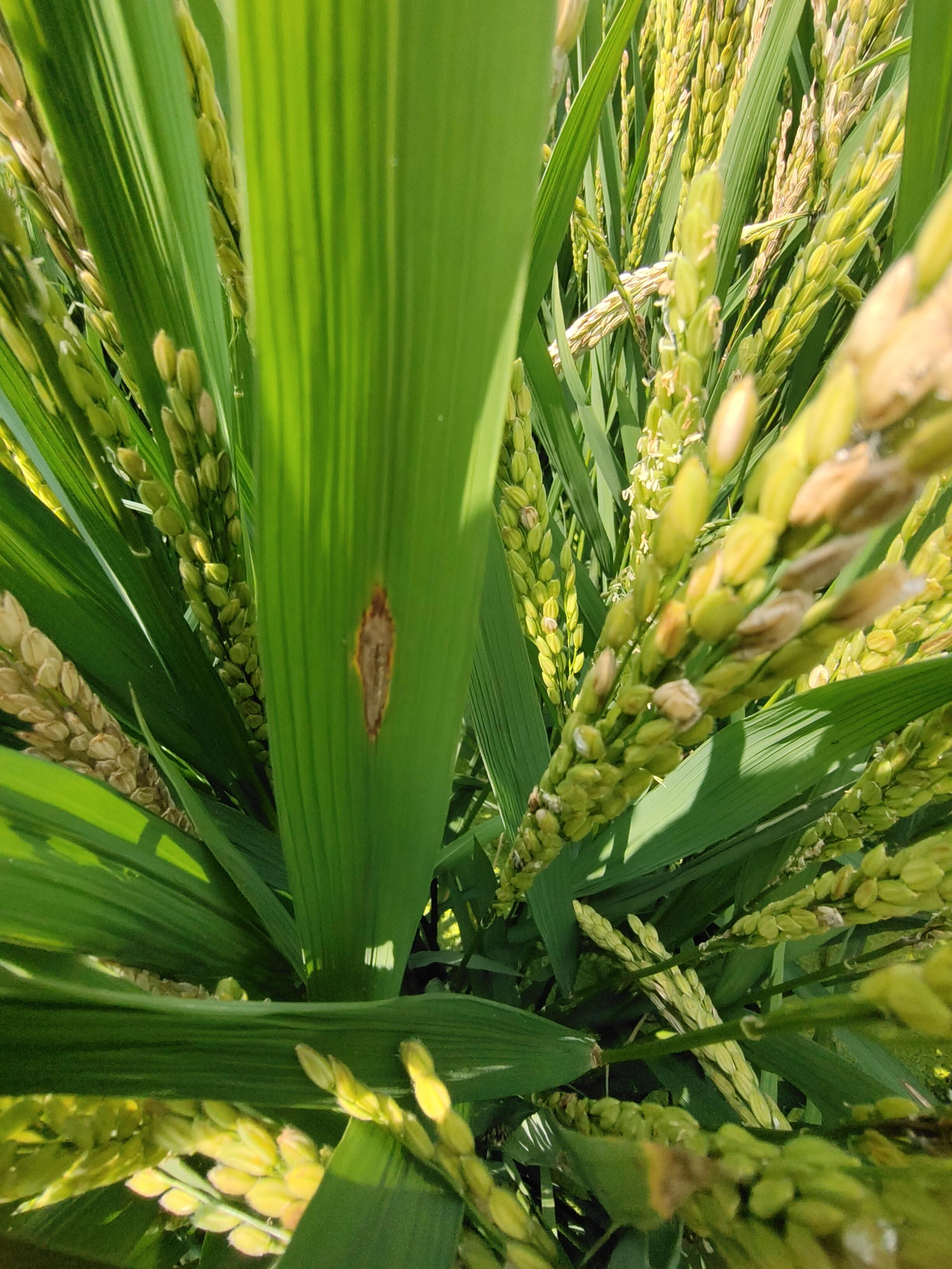LEAF: (220, 0, 557, 1002)
LEAF BLAST: (355, 586, 394, 741)
